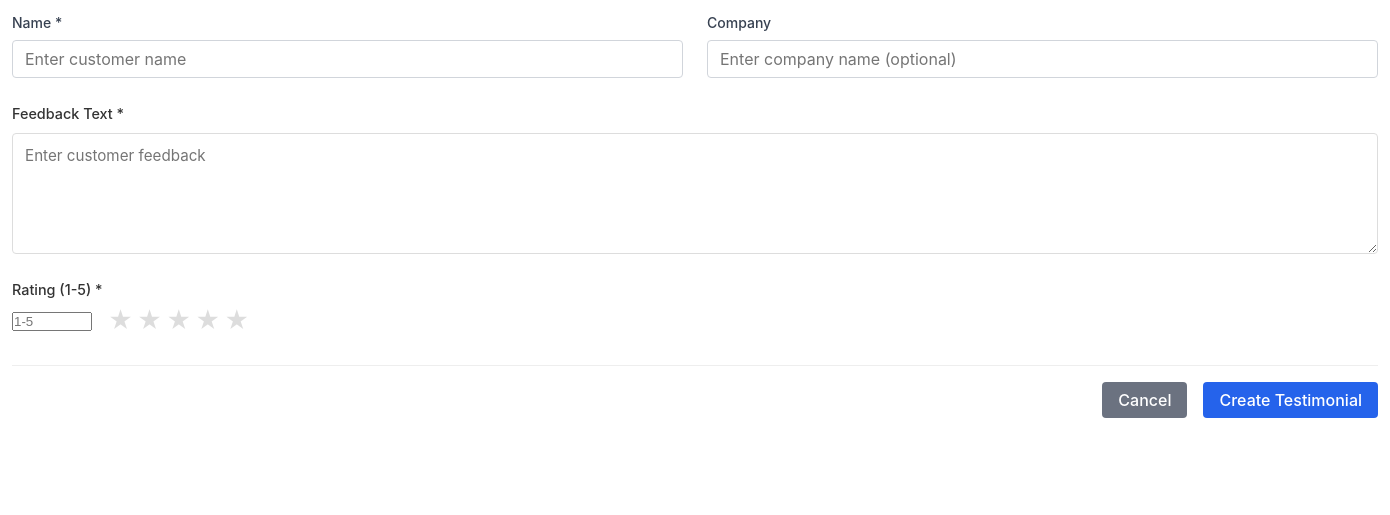
TestimonialForm - Real-time Validation › should not submit form when validation errors exist
// Try to submit without filling required fields
What coordinates should you click on to do the following:
click the button "Create Testimonial"
I would click on:
 (1291, 400)
Its box is x1=1204 y1=382 x2=1378 y2=418.
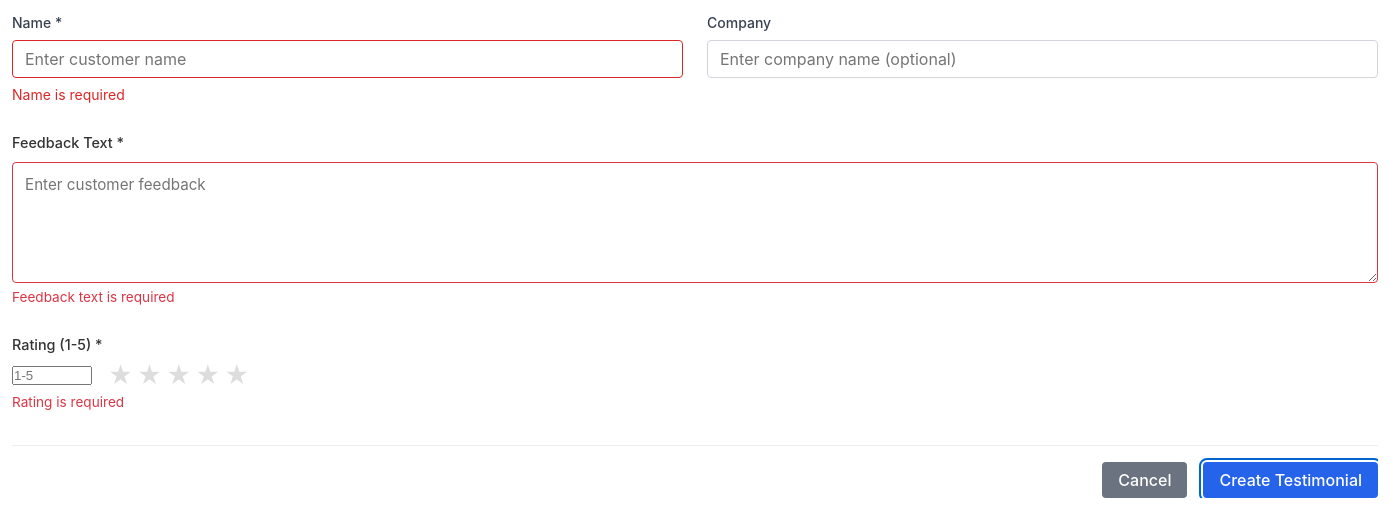
Check: the text "Name is required" is shown, box x1=12 y1=86 x2=125 y2=103
Check: the text "Feedback text is required" is shown, box x1=12 y1=289 x2=175 y2=305
Check: the text "Rating is required" is shown, box x1=12 y1=394 x2=124 y2=410
